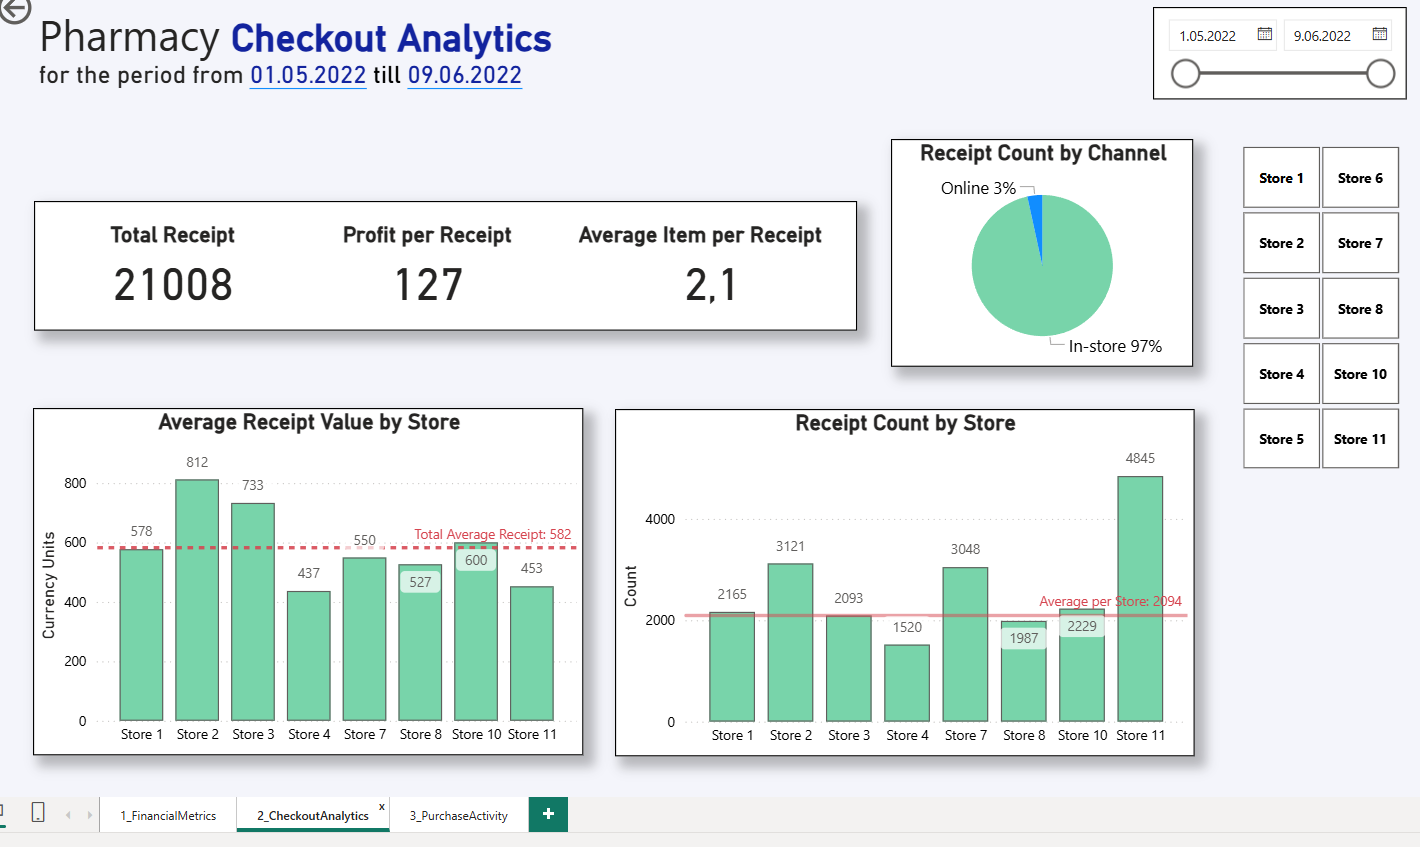

What the dashboard file says about the page in this screenshot:
{"tool":"powerbi","page":{"name":" 2_CheckoutAnalytics","canvas":[1280,720],"ordinal":1},"visuals":[{"type":"slicer","fields":{"Values":["public shops.Store Nr"]},"box":[1083.4,136.2,187.7,299.4],"z":0},{"type":"lineClusteredColumnComboChart","title":"Average Receipt Value by Store","fields":{"Category":["public shops.Store Nr"],"Y":["public sales._Average Check"]},"box":[36.7,375,488.3,308.3],"z":1000},{"type":"shape","box":[36.8,191.7,729.9,115],"z":2000},{"type":"actionButton","box":[0,0,100,40],"z":3000},{"type":"card","title":"Profit per Receipt","fields":{"Values":["public bonuscheques._Profit per Check"]},"box":[291.3,210.1,188.6,79.7],"z":4000},{"type":"lineStackedColumnComboChart","title":"Receipt Count by Store","fields":{"Category":["public shops.Store Nr"],"Y":["Receipt_summary._ReceiptCount"]},"box":[552,375.7,513.7,308.2],"z":5000},{"type":"card","title":"Average Item per Receipt","fields":{"Values":["Receipt_summary._AvgItemPerReceipt"]},"box":[515.2,210.1,246.9,79.7],"z":6000},{"type":"card","title":"Total Receipt","fields":{"Values":["Receipt_summary._ReceiptCount"]},"box":[61.7,210,196.7,80],"z":7000},{"type":"pieChart","title":"Receipt Count by Channel","fields":{"Y":["Receipt_summary._ReceiptCount"],"Category":["Receipt_summary.Order_type"]},"box":[797.3,136.5,268.3,202.4],"z":8000},{"type":"textbox","box":[36.7,13.3,675,101.7],"z":9000},{"type":"slicer","fields":{"Values":["Calendar.Date"]},"box":[1029.5,19.6,224.5,82.2],"z":10000}]}

Visuals, with their boxes on the page's 1280x720 design canvas (x1, y1, x2, y2). These are canvas units, not pixel positions in the 1420x847 screenshot, which may show the page scaled, cropped or inside an application window:
slicer - public shops.Store Nr: 1083 136 1271 436
"Average Receipt Value by Store" lineClusteredColumnComboChart: 37 375 525 683
shape: 37 192 767 307
actionButton: 0 0 100 40
"Profit per Receipt" card: 291 210 480 290
"Receipt Count by Store" lineStackedColumnComboChart: 552 376 1066 684
"Average Item per Receipt" card: 515 210 762 290
"Total Receipt" card: 62 210 258 290
"Receipt Count by Channel" pieChart: 797 136 1066 339
textbox: 37 13 712 115
slicer - Calendar.Date: 1030 20 1254 102
